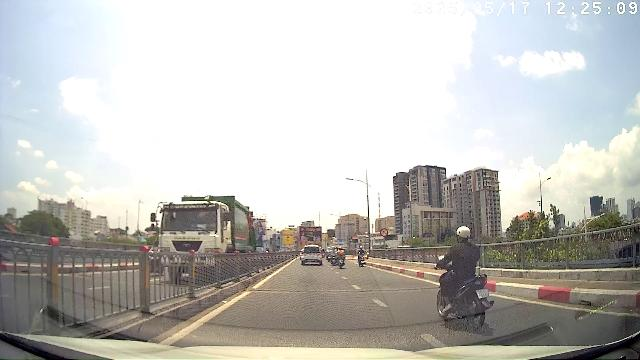123b-cam-re-phai: (380, 228, 388, 236)
